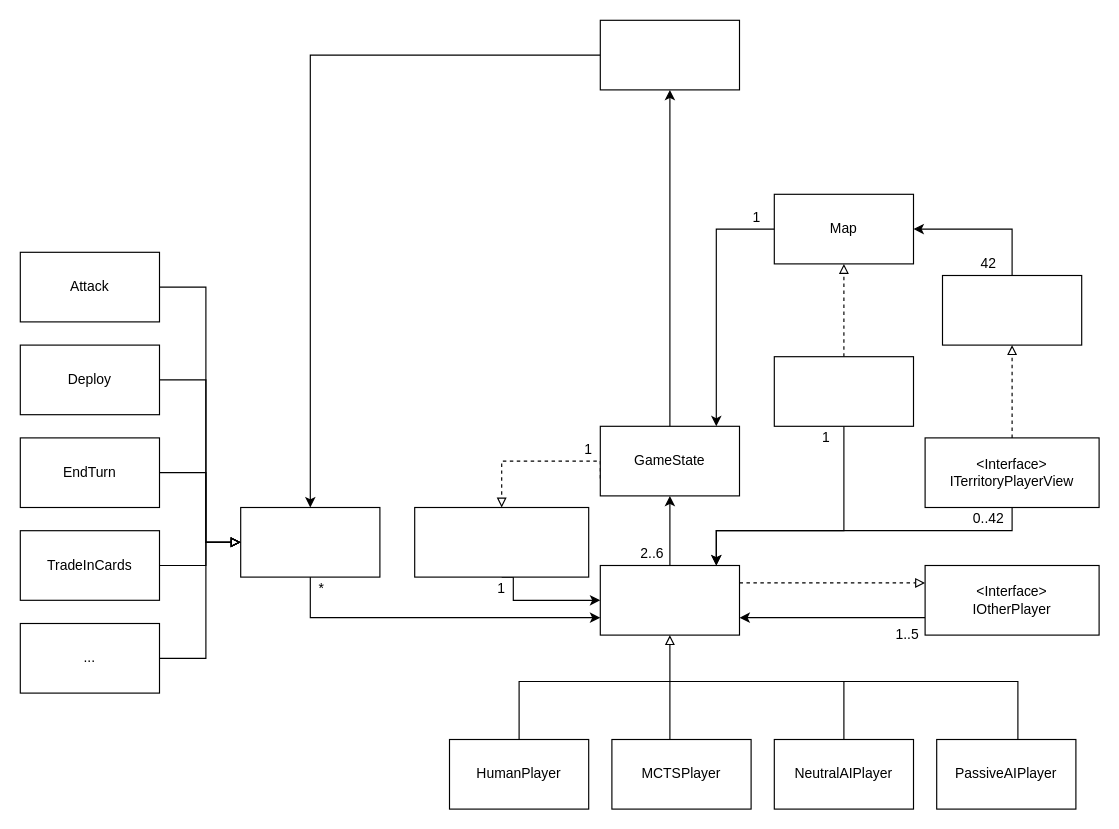
Some shapes in this 1119 by 829 pixel diagram are drawn without their labels. The centre of each missing label's shape, as x and y in pixels:
"<Interface> IGameStatePlayerView" goes at (501,541).
"<Interface> IMapPlayerView" goes at (843,391).
"<Static> GameMaster" goes at (669,54).
"Player" goes at (669,599).
"PlayerAction" goes at (310,541).
"TerritoryData" goes at (1011,309).
